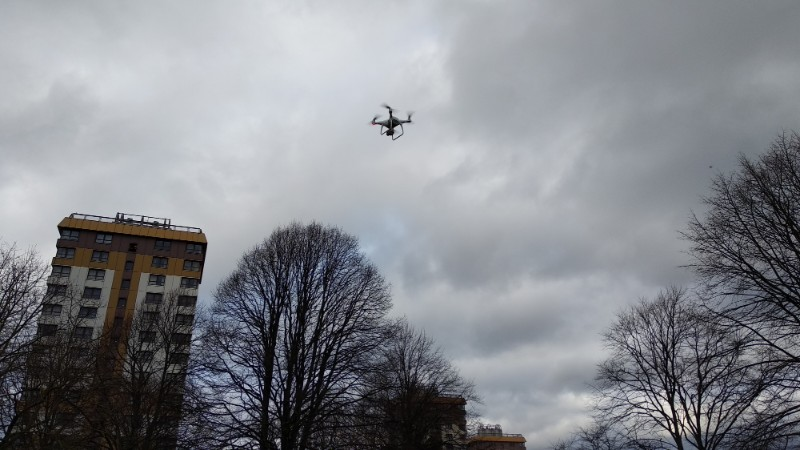drone: (370, 104, 417, 140)
